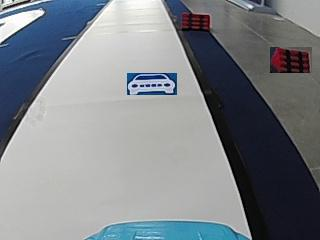bomb: (179, 12, 211, 30)
